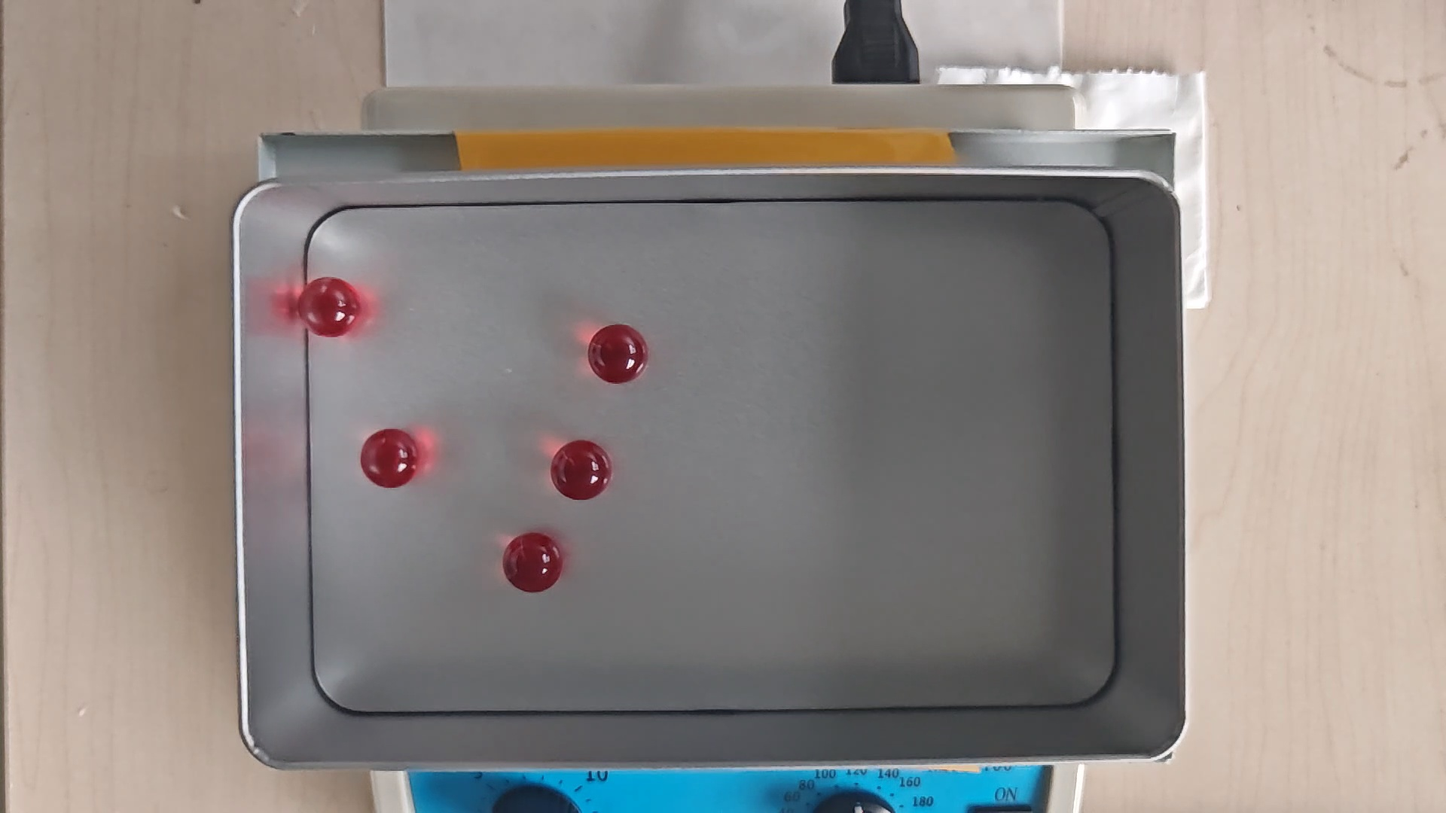ball: (299, 277, 361, 340), (503, 531, 565, 593), (589, 324, 649, 385), (553, 440, 610, 503), (362, 428, 419, 490)
container: (308, 200, 1115, 712)
